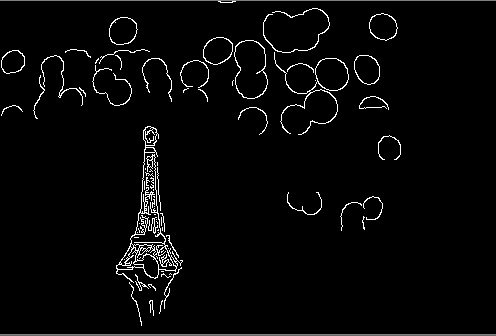eiffel tower: (105, 118, 184, 275)
